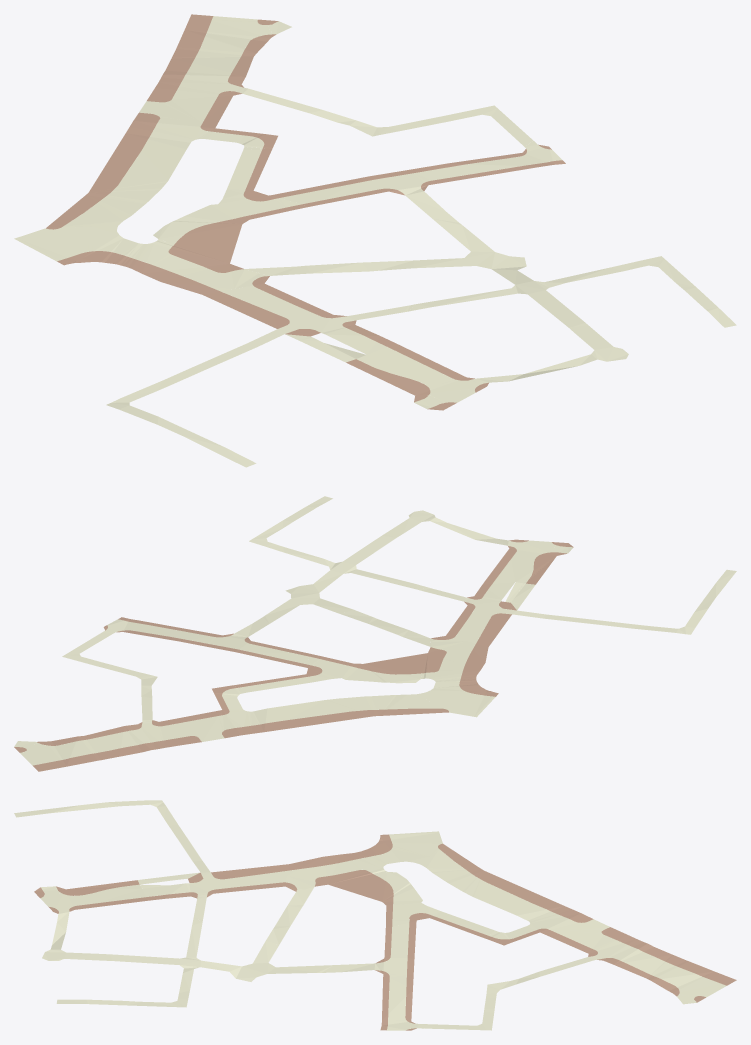
The model's file is data60.glb.
3 renders of one model, top to bottom at view 1: azimuth 30°, elevation 25°; view 2: azimuth 150°, elevation 25°; view 3: azimuth 270°, elevation 25°, orthographic. The views are drawn at different scales.
Bounding box in the file's own units: 209 × 6.83 × 291.
